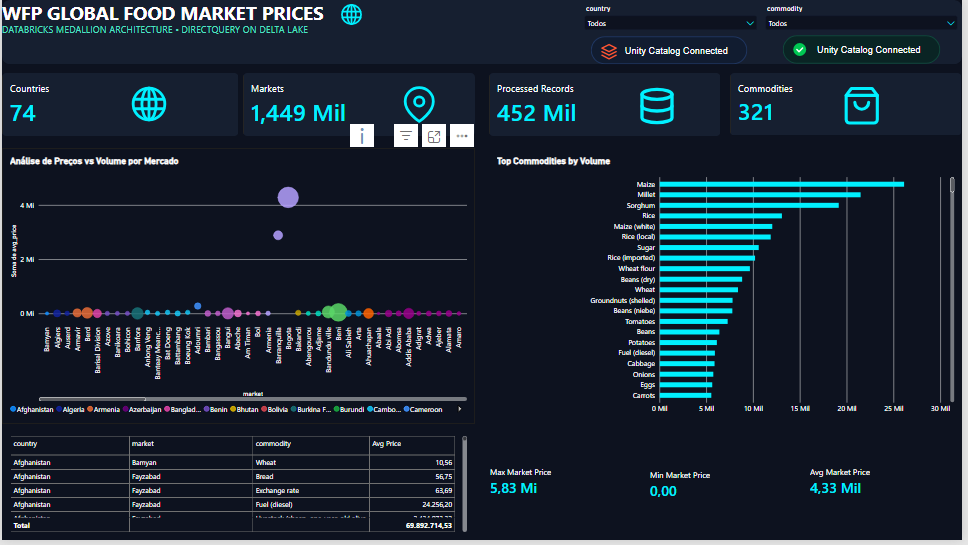

This screenshot's page, from the dashboard's own definition file:
{"tool":"powerbi","page":{"name":"Página 1","canvas":[1920,1080],"ordinal":0},"visuals":[{"type":"shape","box":[0,0,1920,128.5],"z":0},{"type":"textbox","box":[0,0,644,52],"z":1000},{"type":"textbox","box":[0,46,644,34],"z":2000},{"type":"slicer","fields":{"Values":["agg_market_prices_summary.country"]},"box":[1160,8.2,354.5,56.6],"z":3000},{"type":"slicer","fields":{"Values":["agg_market_prices_summary.commodity"]},"box":[1521.8,8.2,393.9,56.6],"z":4000},{"type":"cardVisual","fields":{"Data":["Count(agg_market_prices_summary.country)"]},"box":[0,146.4,473.6,126.4],"z":5000},{"type":"cardVisual","fields":{"Data":["Count(agg_market_prices_summary.market)"]},"box":[481.9,146.6,464,126],"z":6000},{"type":"cardVisual","fields":{"Data":["Count(agg_market_prices_summary.commodity)"]},"box":[1456.4,146.4,463.6,125.5],"z":7000},{"type":"cardVisual","fields":{"Data":["Sum(agg_market_prices_summary.price_records_count)"]},"box":[973.6,146.4,463.6,126.4],"z":8000},{"type":"scatterChart","title":"Análise de Preços vs Volume por Mercado","fields":{"Series":["agg_market_prices_summary.country"],"Size":["Sum(agg_market_prices_summary.price_records_count)"],"X":["agg_market_prices_summary.market"],"Y":["Sum(agg_market_prices_summary.avg_price)"]},"box":[0,296,946,552],"z":9000},{"type":"barChart","title":"Top Commodities by Volume","fields":{"Category":["agg_market_prices_summary.commodity"],"Y":["Sum(agg_market_prices_summary.price_records_count)"]},"box":[973.3,296.7,946.7,551.7],"z":9001},{"type":"tableEx","fields":{"Values":["agg_market_prices_summary.country","agg_market_prices_summary.market","agg_market_prices_summary.commodity","Sum(agg_market_prices_summary.avg_price)"]},"box":[0,858,946,222],"z":9002},{"type":"cardVisual","fields":{"Data":["Max(agg_market_prices_summary.max_price)"]},"box":[960,847.8,313.3,232.2],"z":9003},{"type":"cardVisual","fields":{"Data":["Min(agg_market_prices_summary.min_price)"]},"box":[1280,857.8,320,222.2],"z":9004},{"type":"cardVisual","fields":{"Data":["Avg(agg_market_prices_summary.avg_price)"]},"box":[1600,848.9,320,231.1],"z":9005},{"type":"image","box":[237.1,170.7,112.1,75.9],"z":9006},{"type":"image","box":[778.4,172.4,112.9,74.1],"z":9007},{"type":"image","box":[1244,172.4,131.9,80.2],"z":9008},{"type":"image","box":[1647.5,170,142.5,82.5],"z":9009},{"type":"image","box":[652.7,5.5,93.6,46.4],"z":9010},{"type":"image","box":[1160,71,348,57],"z":9013},{"type":"image","box":[1521.7,70.8,394.2,57.5],"z":9014}]}

Visuals, with their boxes in screenshot pixels (x1, y1, x2, y2), scaled from the page's 1920x1080 canvas onto the 968x545 screenshot:
shape: (left=0, top=0, right=967, bottom=65)
textbox: (left=0, top=0, right=325, bottom=26)
textbox: (left=0, top=23, right=325, bottom=40)
slicer - agg_market_prices_summary.country: (left=585, top=4, right=764, bottom=33)
slicer - agg_market_prices_summary.commodity: (left=767, top=4, right=966, bottom=33)
cardVisual - Count(agg_market_prices_summary.country): (left=0, top=74, right=239, bottom=138)
cardVisual - Count(agg_market_prices_summary.market): (left=243, top=74, right=477, bottom=138)
cardVisual - Count(agg_market_prices_summary.commodity): (left=734, top=74, right=967, bottom=137)
cardVisual - Sum(agg_market_prices_summary.price_records_count): (left=491, top=74, right=725, bottom=138)
"Análise de Preços vs Volume por Mercado" scatterChart: (left=0, top=149, right=477, bottom=428)
"Top Commodities by Volume" barChart: (left=491, top=150, right=967, bottom=428)
tableEx - agg_market_prices_summary.country x agg_market_prices_summary.market: (left=0, top=433, right=477, bottom=544)
cardVisual - Max(agg_market_prices_summary.max_price): (left=484, top=428, right=642, bottom=544)
cardVisual - Min(agg_market_prices_summary.min_price): (left=645, top=433, right=807, bottom=544)
cardVisual - Avg(agg_market_prices_summary.avg_price): (left=807, top=428, right=967, bottom=544)
image: (left=120, top=86, right=176, bottom=124)
image: (left=392, top=87, right=449, bottom=124)
image: (left=627, top=87, right=694, bottom=127)
image: (left=831, top=86, right=902, bottom=127)
image: (left=329, top=3, right=376, bottom=26)
image: (left=585, top=36, right=760, bottom=65)
image: (left=767, top=36, right=966, bottom=65)
